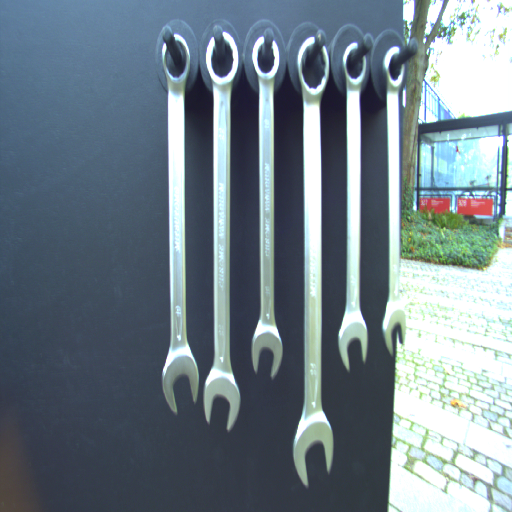bottom: (289, 407, 337, 488), (159, 347, 201, 417), (203, 362, 242, 436), (334, 310, 371, 371), (249, 320, 285, 382), (379, 299, 408, 356)
top: (295, 33, 332, 108), (203, 31, 240, 90), (158, 31, 192, 91), (249, 33, 283, 87), (341, 41, 370, 97), (382, 43, 407, 97)
